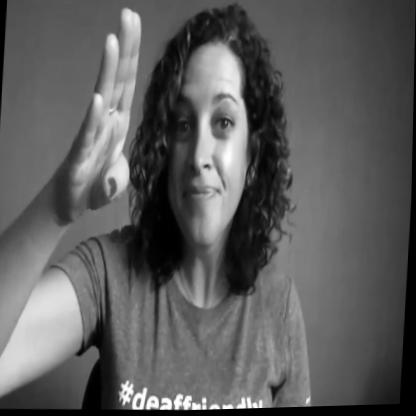Hello: (31, 0, 303, 288)
